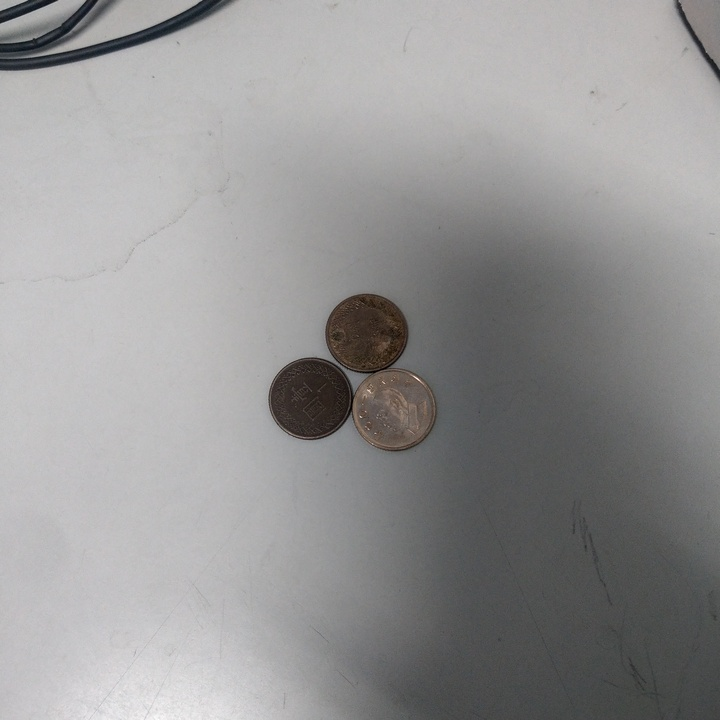1 dollar: (269, 355, 353, 443), (354, 369, 437, 451), (326, 295, 412, 374)
